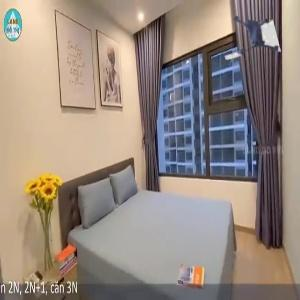drone: (216, 3, 276, 63)
